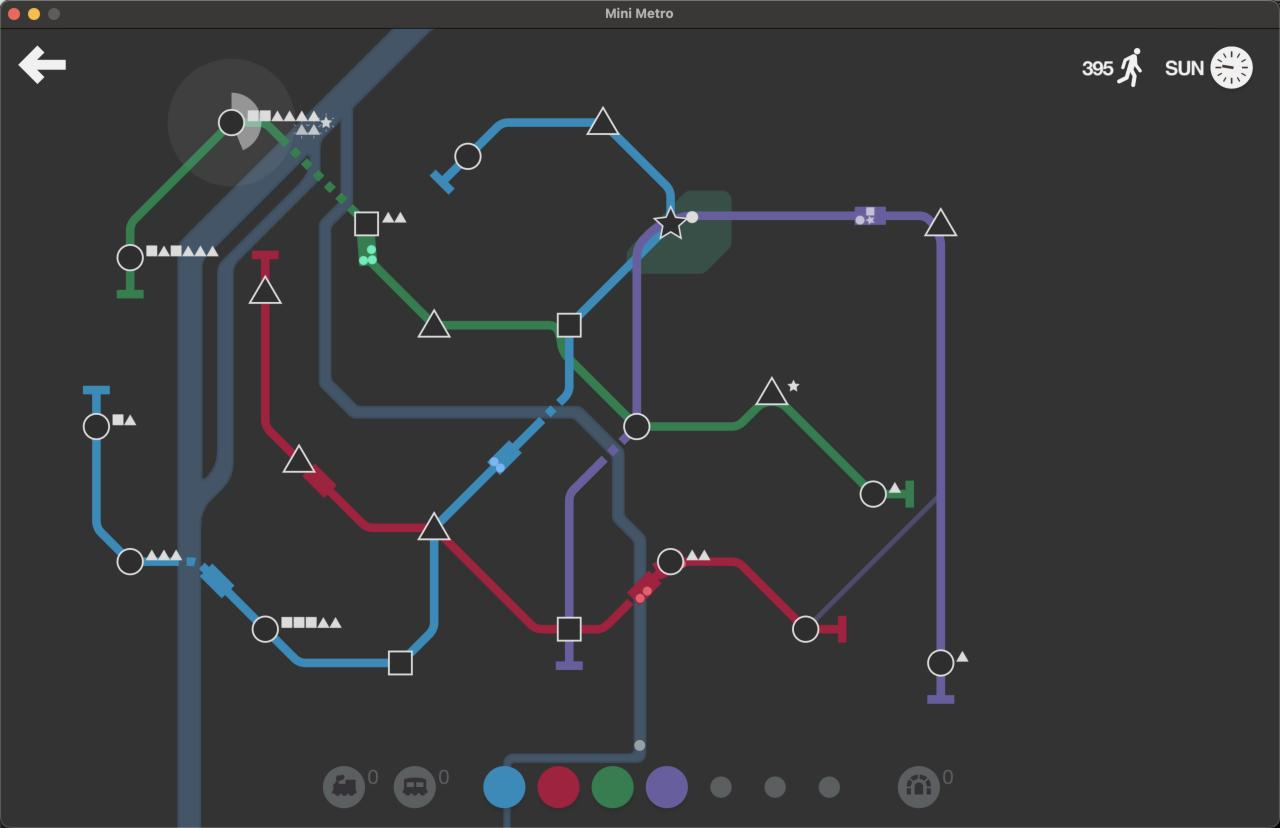CIRCLE: (655, 547, 685, 576), (926, 648, 955, 677), (453, 141, 482, 170), (792, 614, 820, 644), (251, 614, 279, 644), (217, 108, 245, 137), (859, 479, 887, 508), (116, 547, 144, 576), (623, 412, 651, 441), (116, 243, 144, 272), (82, 412, 110, 440)
SQUARE: (556, 615, 582, 643), (556, 311, 583, 337), (388, 649, 413, 676), (354, 210, 379, 237)
STAR: (652, 205, 689, 240)
TRIANGLE: (923, 206, 959, 238), (417, 307, 452, 339), (416, 510, 452, 541), (282, 443, 316, 474), (248, 275, 282, 306), (754, 375, 788, 406), (586, 105, 619, 136)
